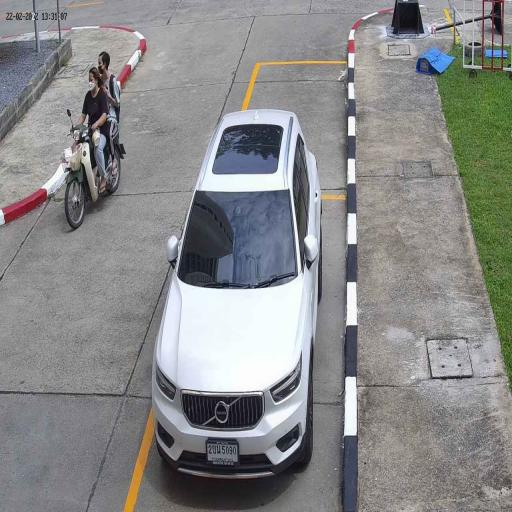car: (151, 108, 323, 482)
motorcycle: (60, 123, 128, 230)
